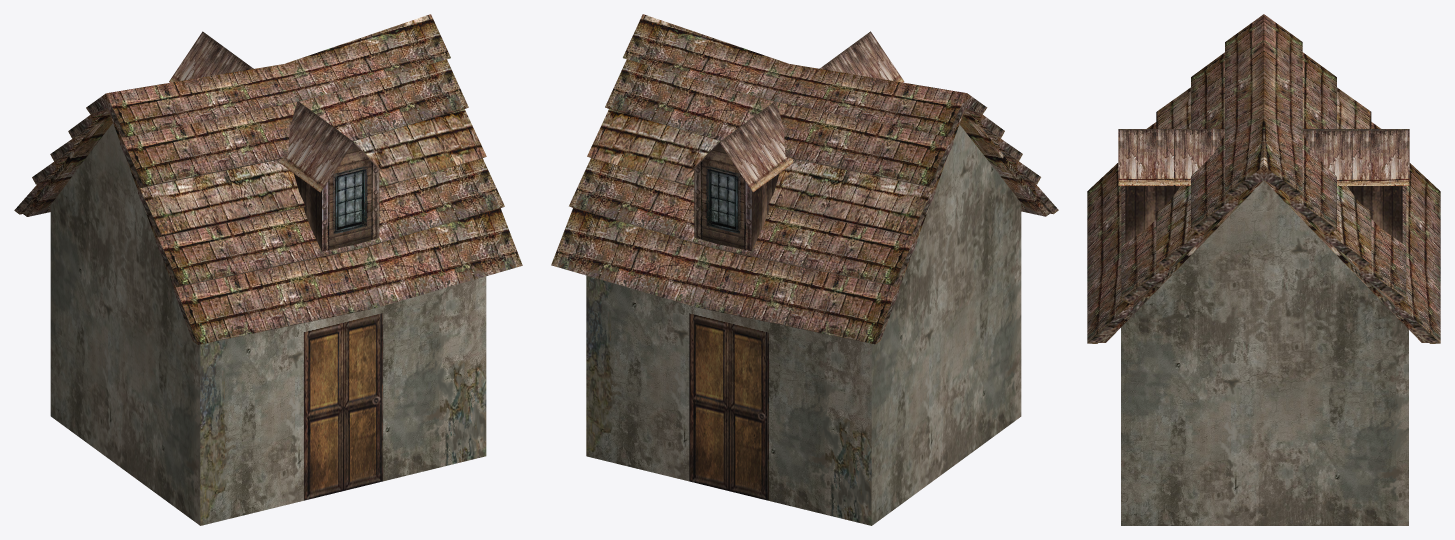
File: building2.FBX
3 views of the same model, side by side, from view 1: azimuth 30°, elevation 25°; view 2: azimuth 150°, elevation 25°; view 3: azimuth 270°, elevation 25° (orthographic). The views are drawn at different scales.
Visible parts, largest first — view 1: Object004; view 2: Object004; view 3: Object004.
Boxes of the visible parts, bbox=[...] form: Object004: bbox=[14, 14, 522, 525]; Object004: bbox=[551, 14, 1058, 525]; Object004: bbox=[1087, 14, 1440, 525].
Bounding box in the file's own units: 162 × 183 × 159.
Materials: 1 (1 with a texture image).
